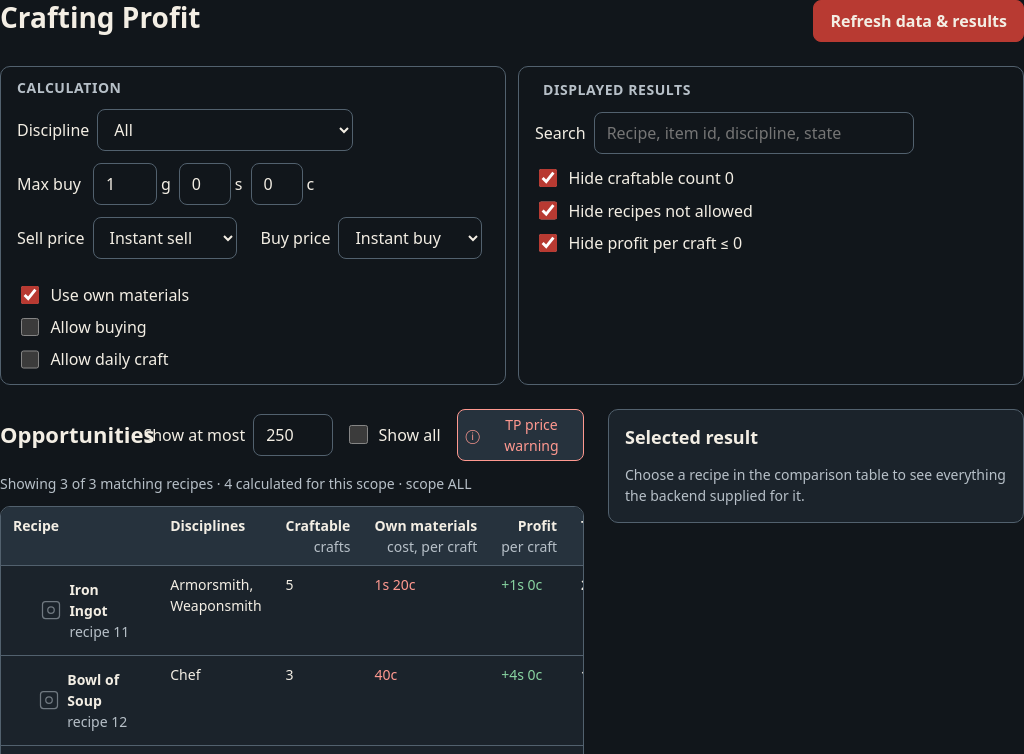
Test: CraftingProfitScreen › clearsTheDetailWhenTheReplacementCalculationDropsTheSelectedRecipe
This screenshot has width=1024, height=754.
Click the button with test id "select-row" showing "Bowl of Soup recipe 12": (80, 700) [13,664,146,737]
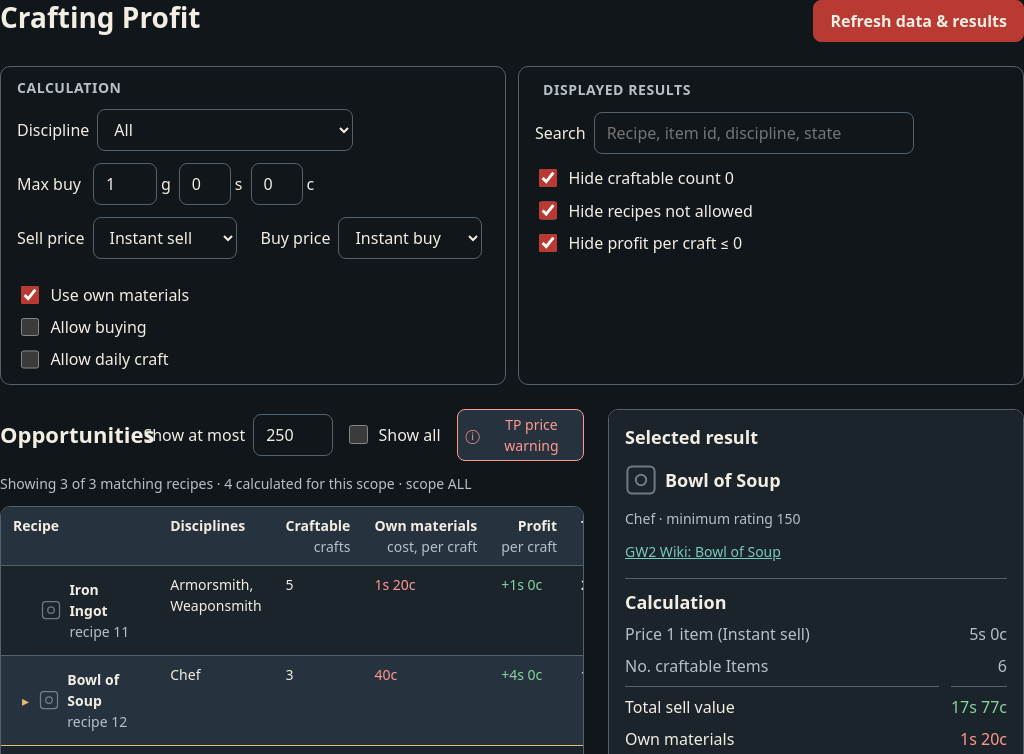
Click the button with test id "refresh-data-and-results": (919, 21) [813,0,1023,42]
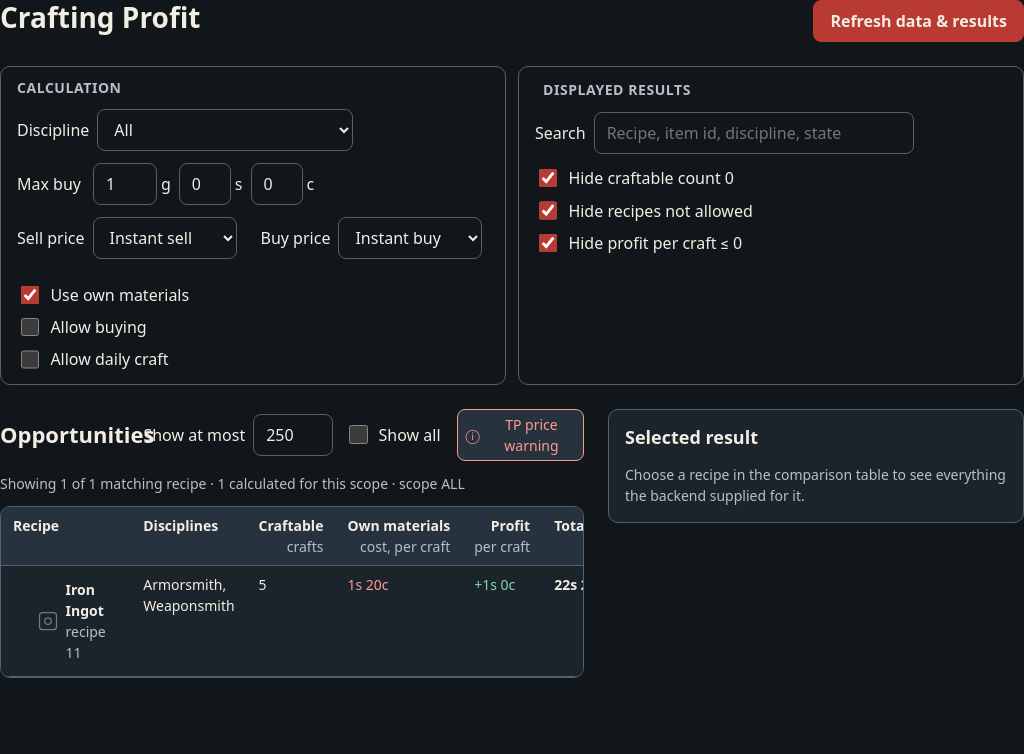
expect the text with test id "detail-placeholder" shows "Choose a recipe": met, box [625,465,1006,505]
